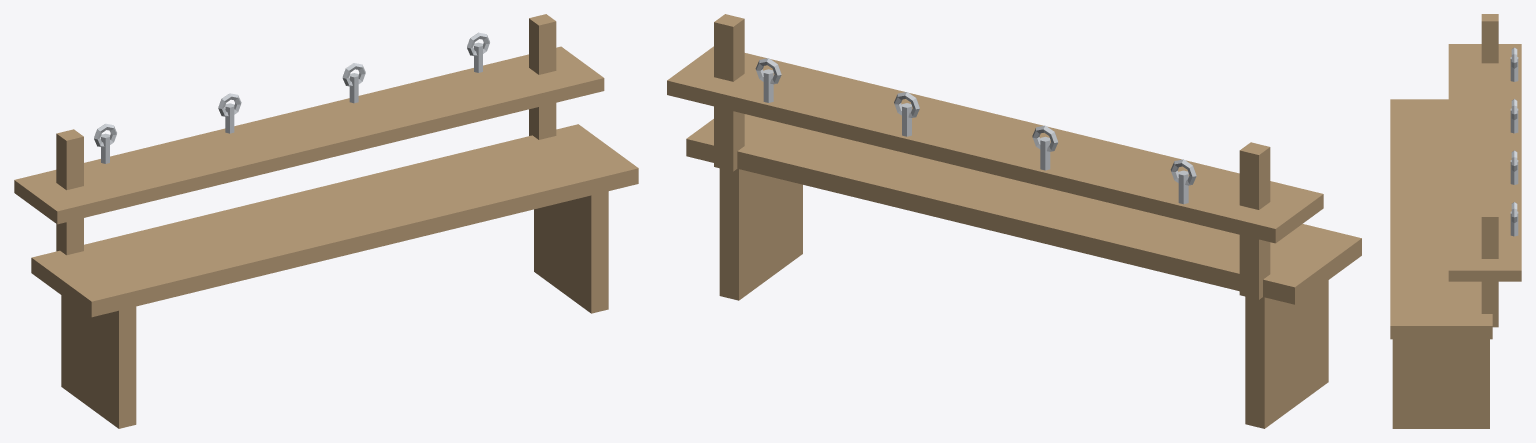
Rendered from racecourse-and-parade-ring-jockeys-bench-4505f1ea__38618.glb.
The picture shows the model from 3 angles, left to right: view 1: azimuth 30°, elevation 25°; view 2: azimuth 150°, elevation 25°; view 3: azimuth 270°, elevation 25°; orthographic projection. The views are drawn at different scales.
Parts seen in each view (by area): view 1: jockeys-bench; view 2: jockeys-bench; view 3: jockeys-bench.
Boxes of the visible parts, left/top/right/bottom form: jockeys-bench: left=14, top=14, right=638, bottom=428; jockeys-bench: left=667, top=14, right=1361, bottom=428; jockeys-bench: left=1390, top=14, right=1521, bottom=428.
Size of the model in its own units: 2.2 by 0.9599 by 0.5401.
